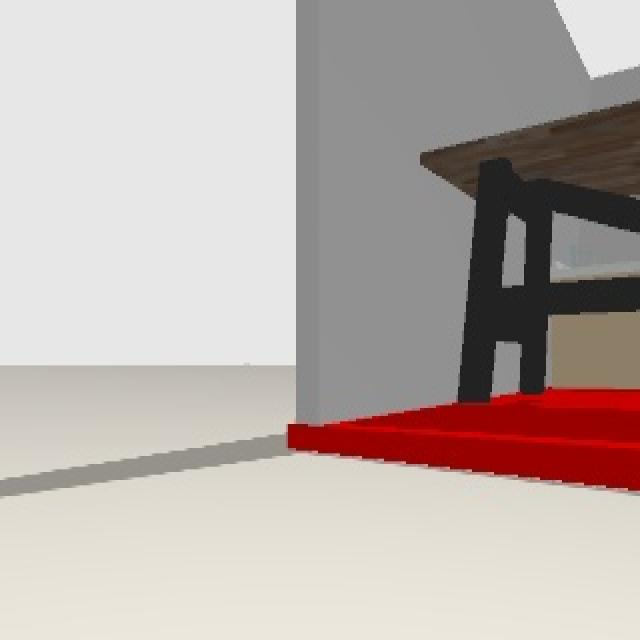dining: (416, 96, 640, 408)
